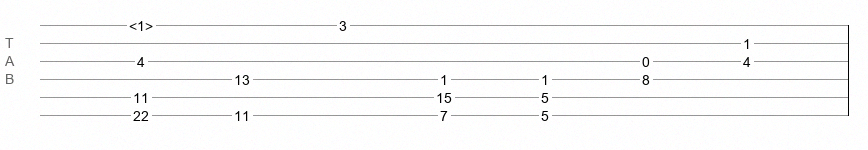0: (642, 54, 650, 64)
1: (440, 72, 448, 82), (541, 72, 549, 82), (743, 36, 751, 46)
11: (133, 90, 149, 100), (234, 108, 250, 118)
13: (234, 72, 250, 82)
15: (436, 90, 452, 100)
22: (133, 108, 149, 118)
3: (339, 18, 347, 28)
4: (137, 54, 145, 64), (743, 54, 751, 64)
5: (541, 108, 549, 118), (541, 90, 549, 100)
7: (440, 108, 448, 118)
8: (642, 72, 650, 82)
harmonic: (129, 18, 153, 28)
